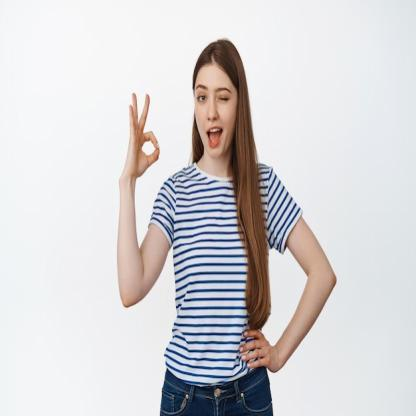ok: (121, 88, 162, 182)
